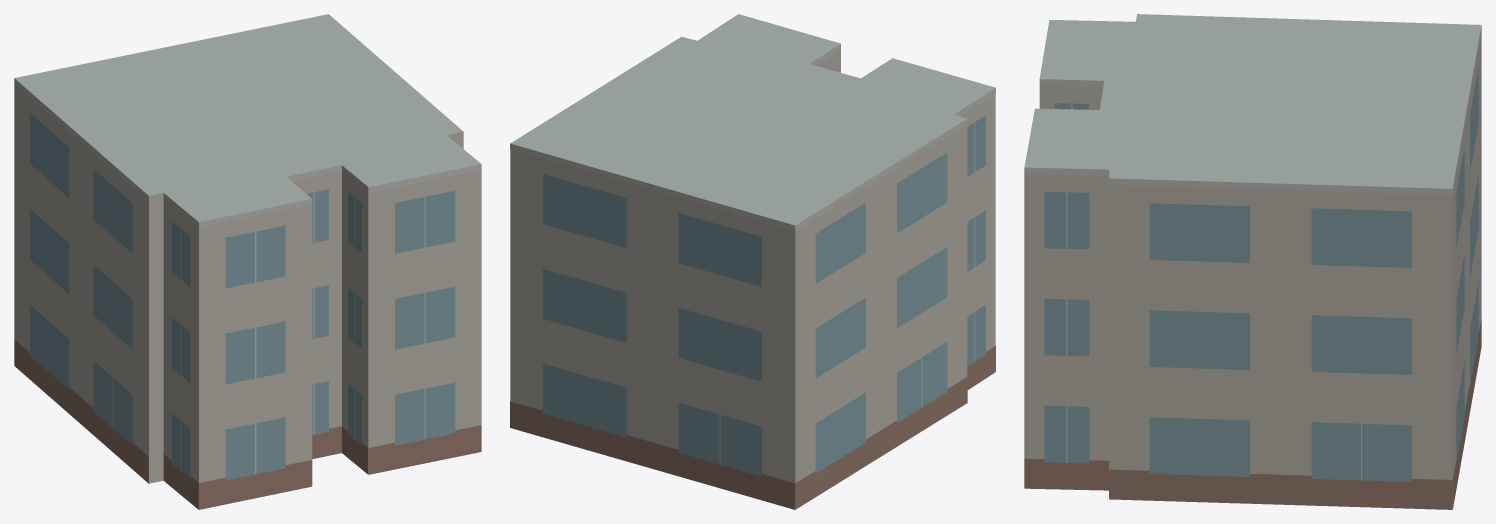
The model's file is survey-upis-32615434.glb.
The picture shows the model from 3 angles, left to right: view 1: azimuth 30°, elevation 25°; view 2: azimuth 150°, elevation 25°; view 3: azimuth 270°, elevation 25°; orthographic projection. The views are drawn at different scales.
Parts seen in each view (by area): view 1: survey-upis-32615434.tmp; view 2: survey-upis-32615434.tmp; view 3: survey-upis-32615434.tmp.
Boxes of the visible parts, bbox=[...] form: survey-upis-32615434.tmp: bbox=[14, 14, 481, 509]; survey-upis-32615434.tmp: bbox=[510, 14, 995, 509]; survey-upis-32615434.tmp: bbox=[1024, 14, 1481, 509].
Bounding box in the file's own units: 14.44 × 12.35 × 15.96.
